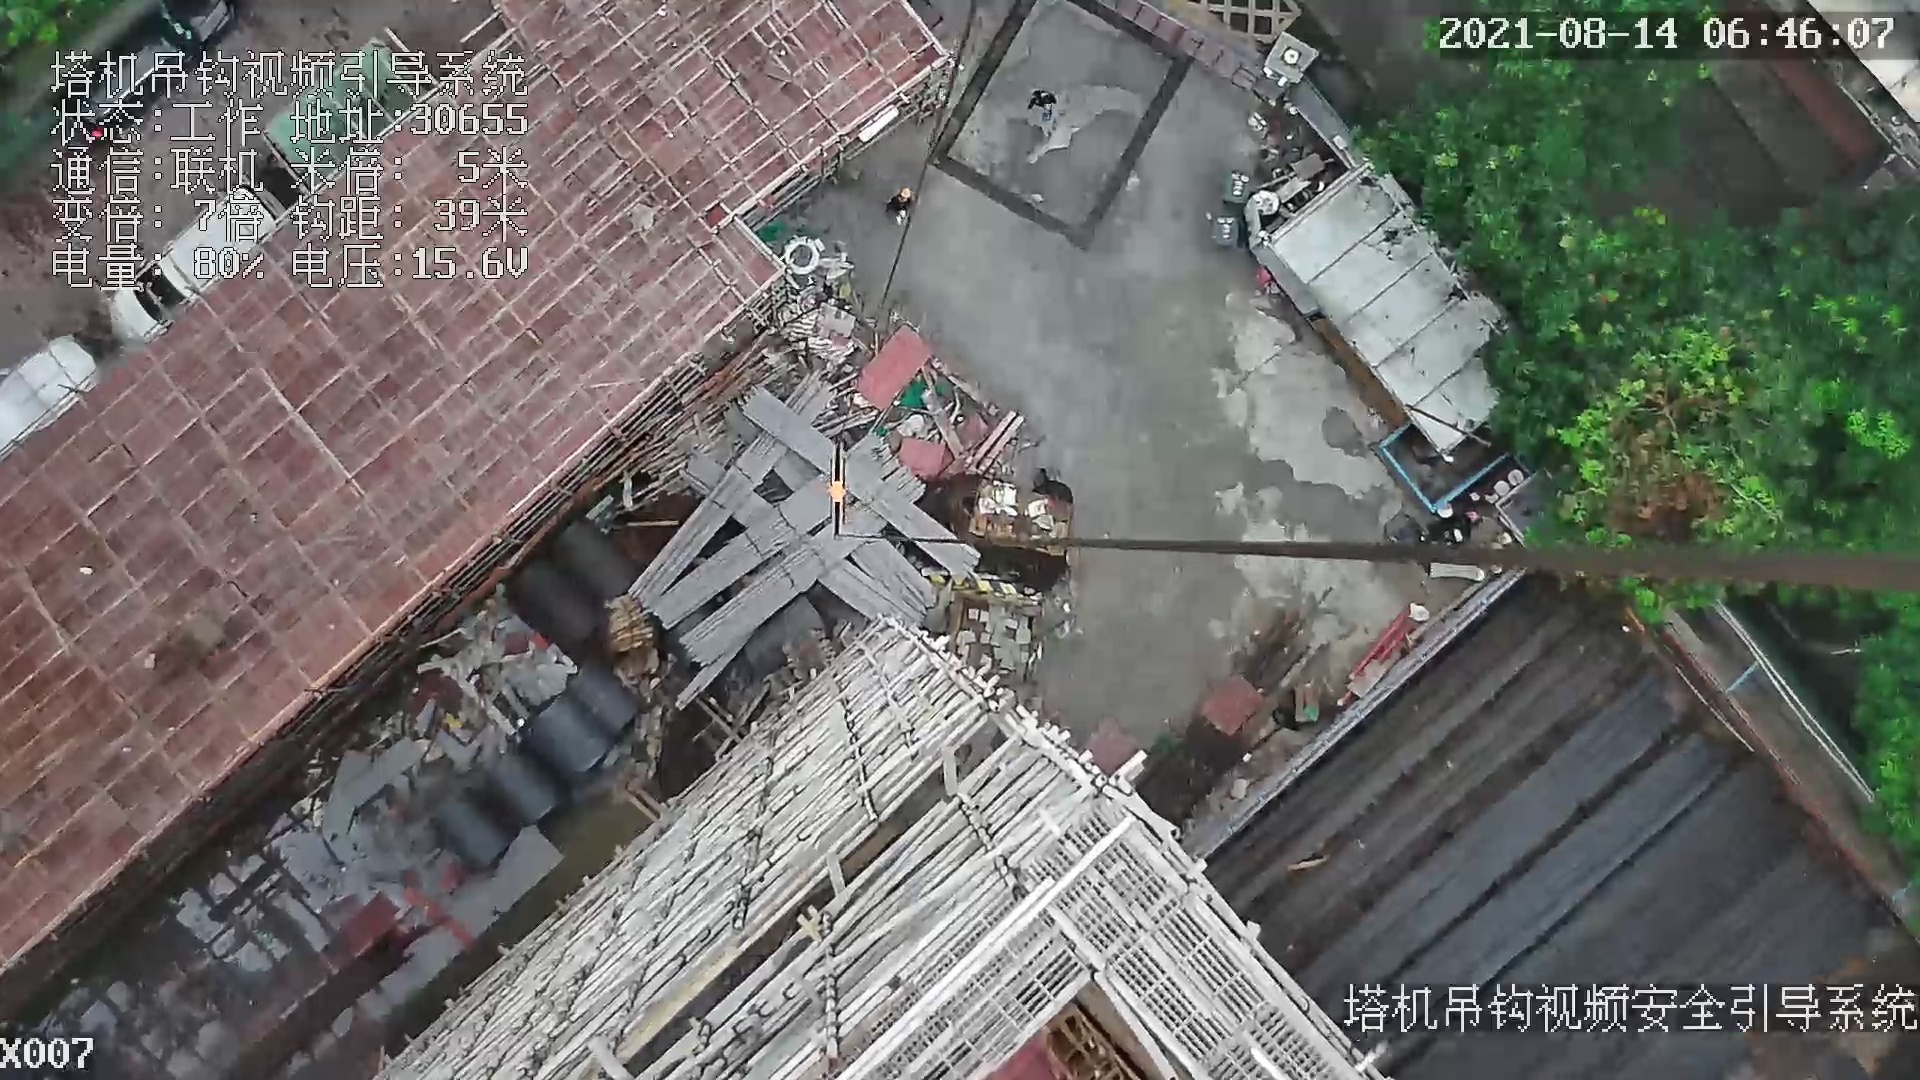helmet: (900, 188, 910, 197)
hook: (828, 444, 854, 541)
hopper: (1367, 411, 1519, 517)
person: (885, 185, 917, 230), (1028, 87, 1059, 116)
